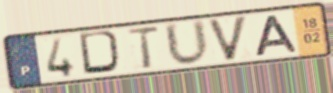4: (44, 35, 79, 79)
A: (253, 13, 301, 58)
D: (77, 29, 126, 76)
T: (124, 24, 162, 71)
U: (162, 18, 213, 68)
V: (205, 14, 250, 64)
